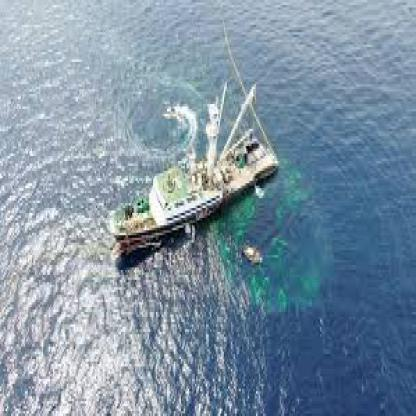fish-b: (93, 72, 285, 257)
